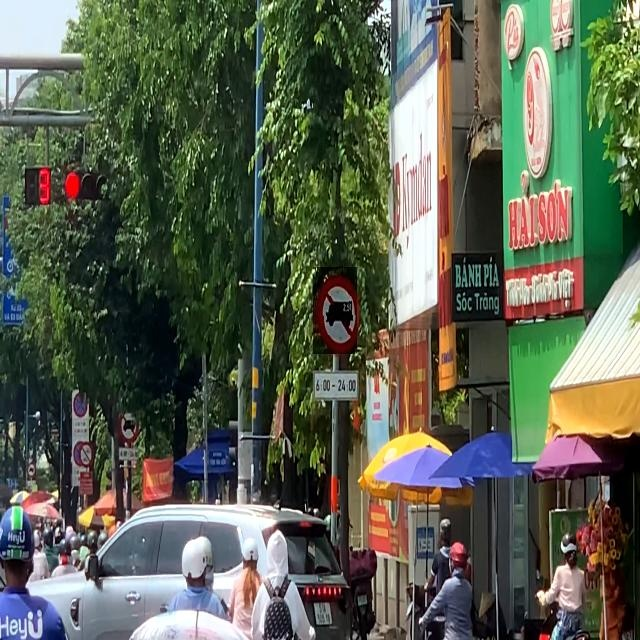bien_cam: (313, 267, 357, 354)
